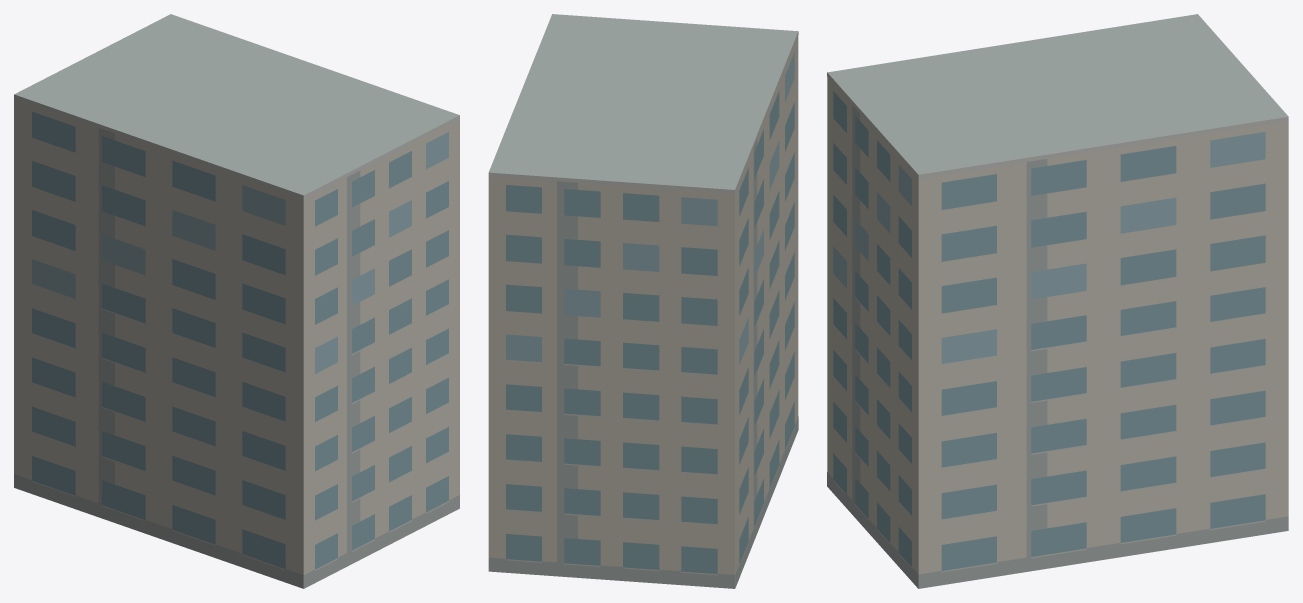
File: survey-upis-32862041.glb
3 renders of one model, left to right at view 1: azimuth 30°, elevation 25°; view 2: azimuth 150°, elevation 25°; view 3: azimuth 270°, elevation 25°, orthographic. The views are drawn at different scales.
Parts seen in each view (by area): view 1: survey-upis-32862041.tmp; view 2: survey-upis-32862041.tmp; view 3: survey-upis-32862041.tmp.
Boxes of the visible parts, <box> form: survey-upis-32862041.tmp: <box>14,14,459,588</box>; survey-upis-32862041.tmp: <box>488,14,798,588</box>; survey-upis-32862041.tmp: <box>827,14,1288,588</box>.
Bounding box in the file's own units: 20.56 × 24.67 × 24.93.
